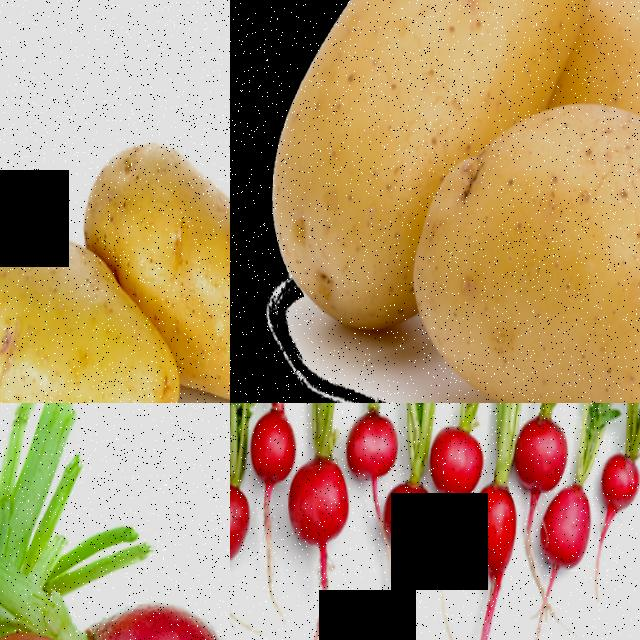potato: (414, 92, 640, 403), (298, 0, 592, 137), (0, 210, 186, 403), (178, 168, 230, 403)
radishes: (474, 403, 598, 588), (340, 403, 485, 553), (0, 551, 230, 640), (288, 403, 350, 588), (230, 403, 293, 579), (597, 403, 640, 536)
